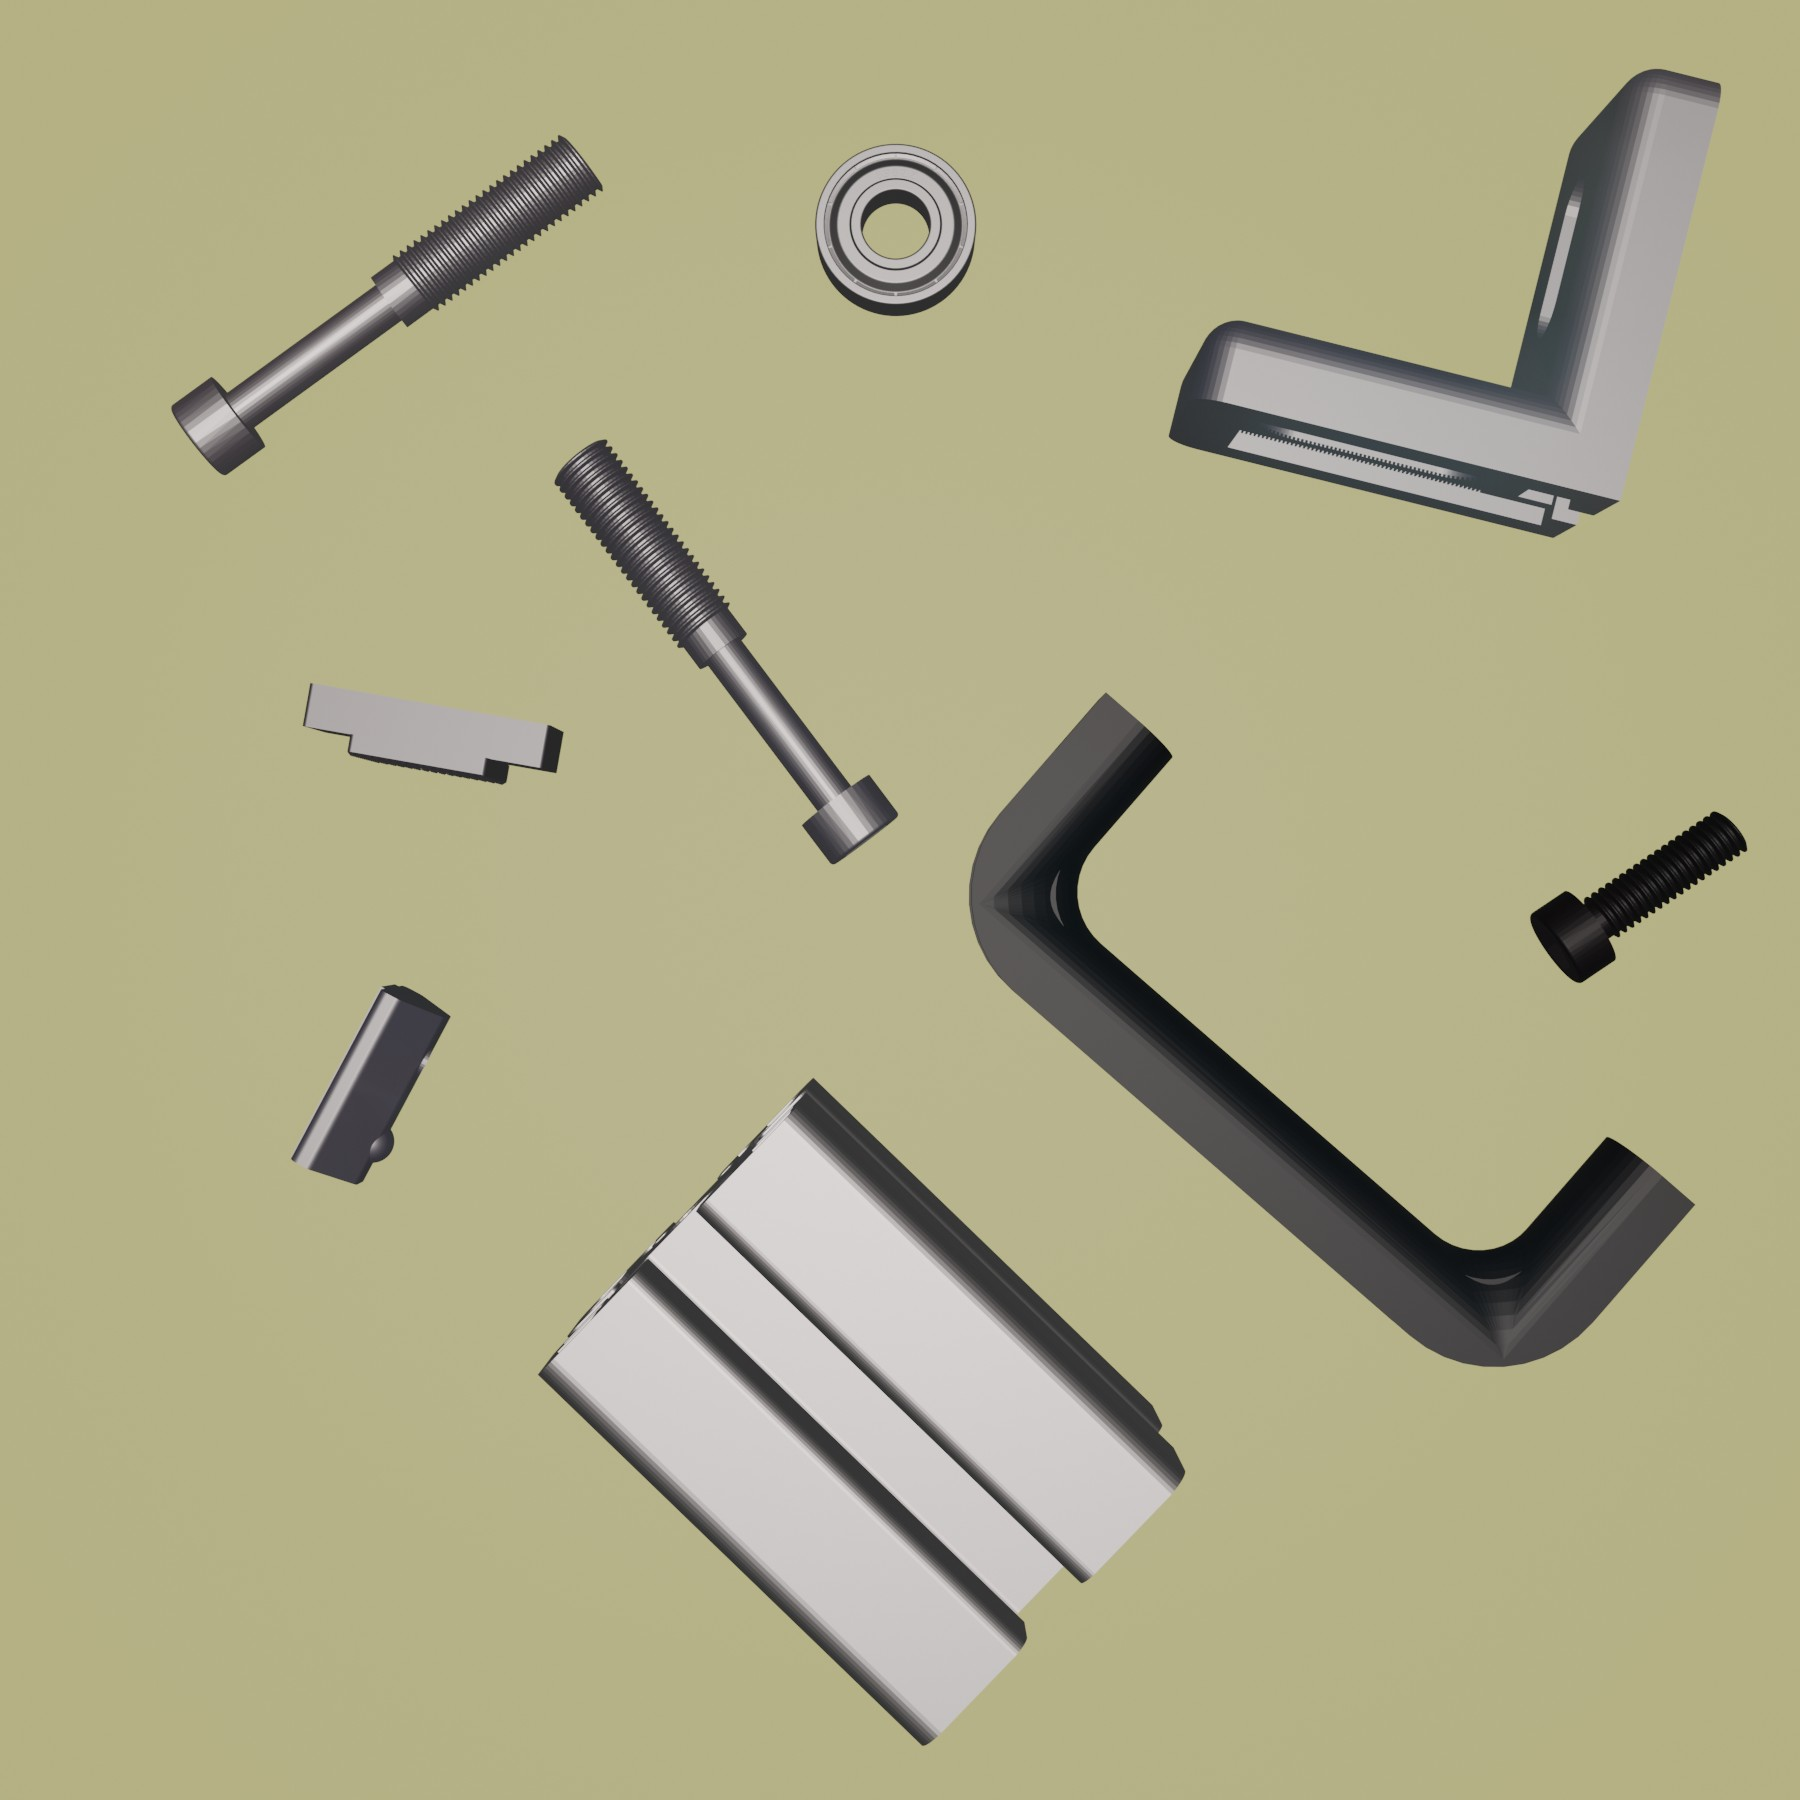Aluminium Extension: (536, 1071, 1187, 1746)
Ball Bearing: (811, 138, 977, 318)
Multiwinkel: (1165, 64, 1724, 541)
Pull Handle: (968, 689, 1696, 1368)
Shoulder Socket Head Cap Screw: (166, 134, 607, 478), (552, 435, 900, 869)
Socket Head Cap Screw: (1530, 808, 1747, 986)
T Nut Square: (297, 676, 565, 790)
T Spring Nut: (288, 982, 452, 1188)
